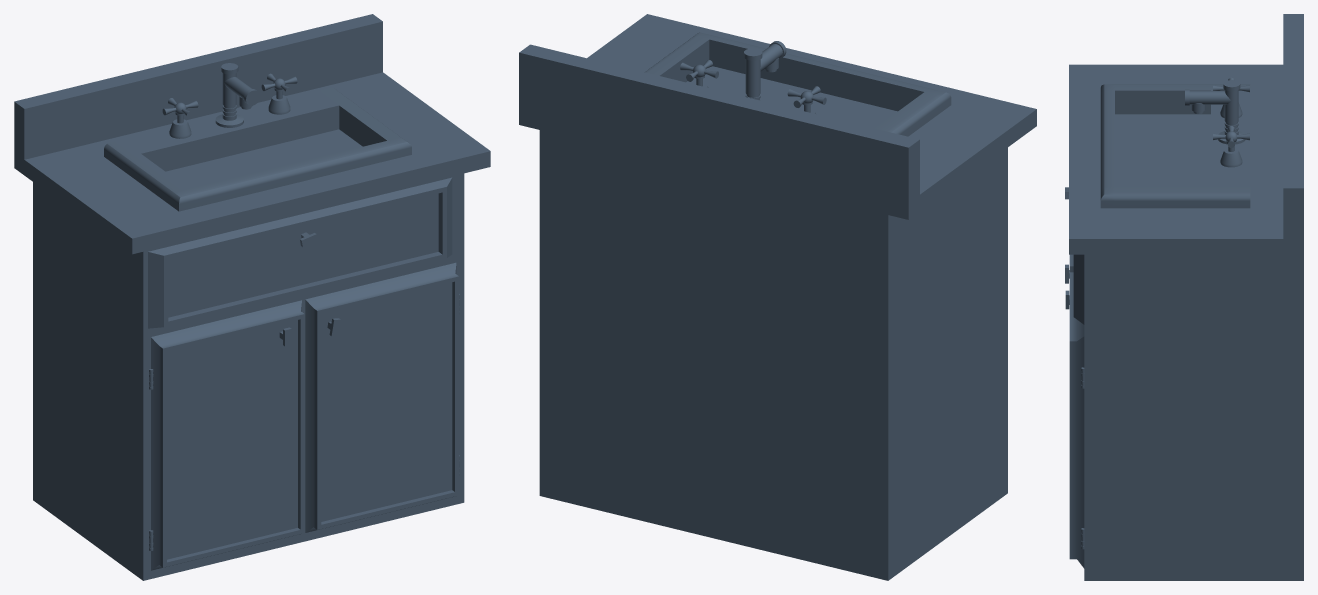
The model's file is Sink Low.fbx.
3 renders of one model, left to right at view 1: azimuth 30°, elevation 25°; view 2: azimuth 150°, elevation 25°; view 3: azimuth 270°, elevation 25°, orthographic. The views are drawn at different scales.
Parts seen in each view (by area): view 1: sink_09_low, sink_07_low, sink_11_low, sink_03_low, sink_04_low, sink_13_low, sink_14_low; view 2: sink_09_low, sink_07_low, sink_13_low, sink_14_low; view 3: sink_09_low, sink_07_low, sink_13_low, sink_11_low, sink_14_low, sink_04_low, sink_20_low, sink_19_low.
Boxes of the visible parts, left/top/right/bottom form: sink_09_low: left=33, top=173, right=464, bottom=580; sink_07_low: left=14, top=14, right=490, bottom=254; sink_11_low: left=305, top=262, right=458, bottom=532; sink_03_low: left=151, top=300, right=304, bottom=570; sink_04_low: left=148, top=177, right=452, bottom=328; sink_13_low: left=104, top=88, right=411, bottom=211; sink_14_low: left=215, top=63, right=243, bottom=127; sink_09_low: left=539, top=130, right=1007, bottom=580; sink_07_low: left=519, top=14, right=1036, bottom=219; sink_13_low: left=645, top=32, right=951, bottom=136; sink_14_low: left=744, top=48, right=762, bottom=100; sink_09_low: left=1084, top=254, right=1303, bottom=580; sink_07_low: left=1069, top=14, right=1303, bottom=254; sink_13_low: left=1100, top=84, right=1250, bottom=208; sink_11_low: left=1069, top=272, right=1084, bottom=568; sink_14_low: left=1218, top=80, right=1245, bottom=144; sink_04_low: left=1073, top=254, right=1084, bottom=324; sink_20_low: left=1185, top=89, right=1231, bottom=105; sink_19_low: left=1220, top=148, right=1242, bottom=167.
Size of the model in its own units: 79.98 by 89.72 by 46.32.
